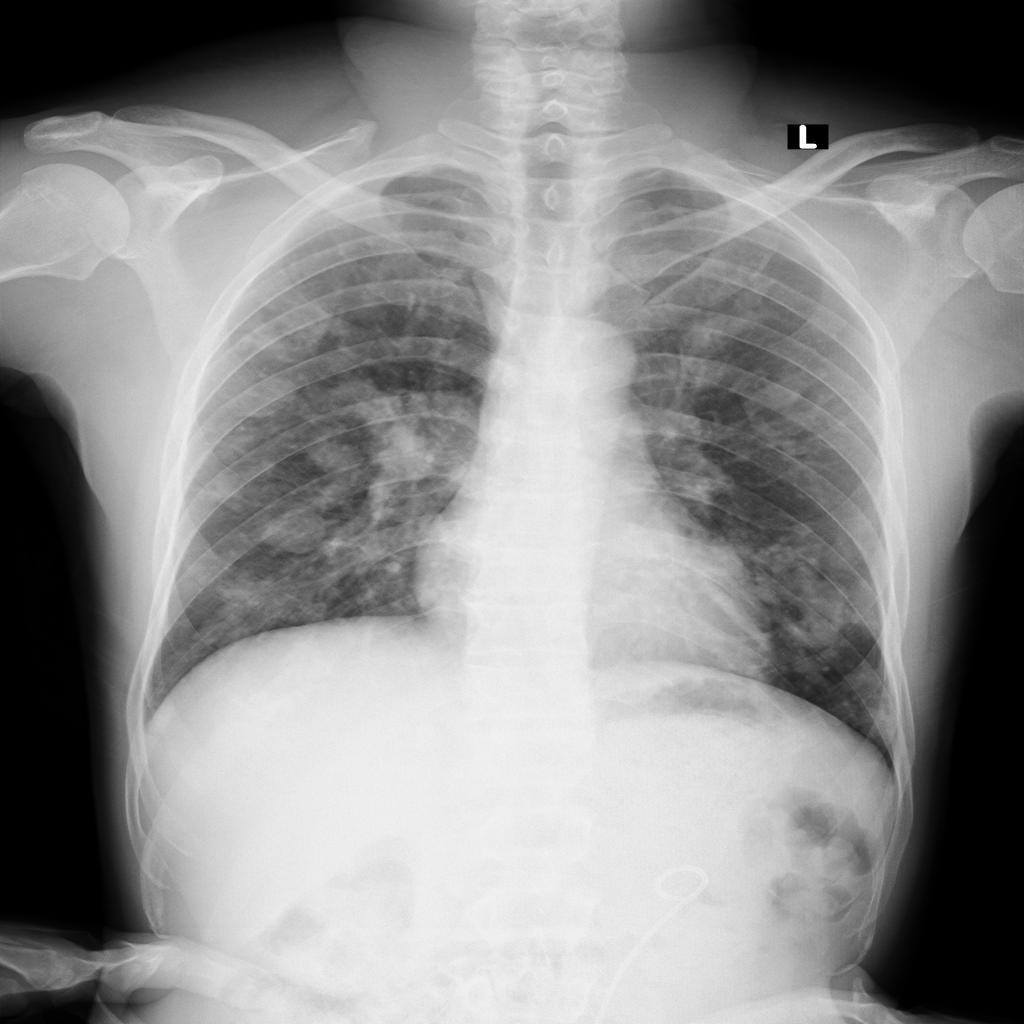Nodule: (264, 506, 329, 554), (309, 422, 367, 475)
